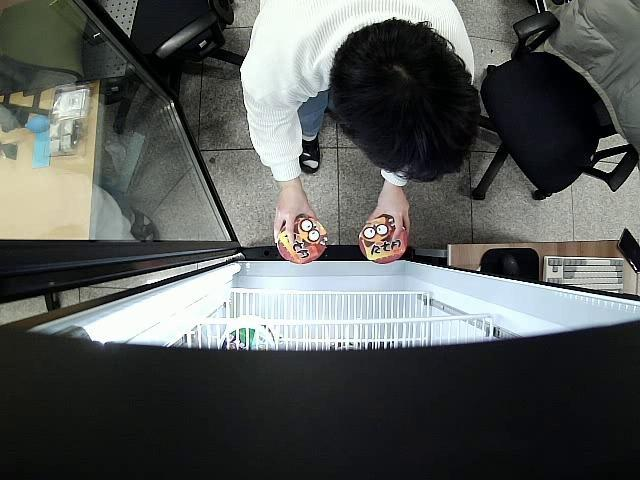05_nuguri_L: (276, 214, 329, 263), (357, 217, 408, 265)
